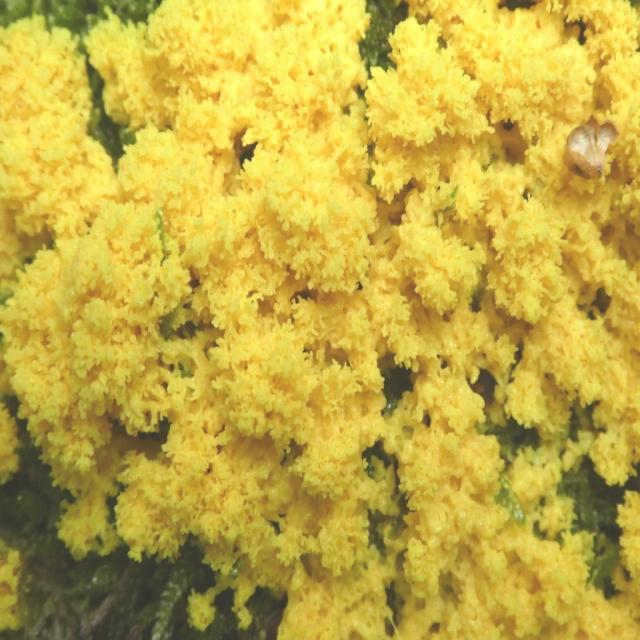Dog_vomit_slime_mold: (7, 7, 636, 633)
